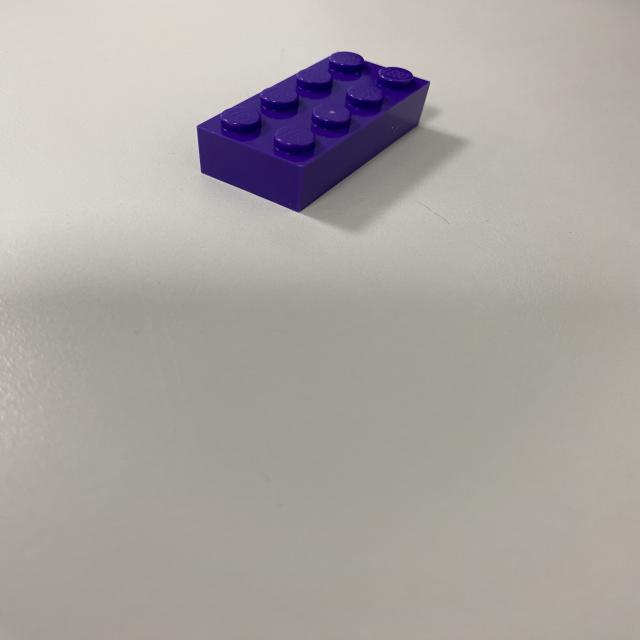C4x2x1: (192, 77, 435, 213), (198, 48, 431, 175), (308, 172, 312, 208)
